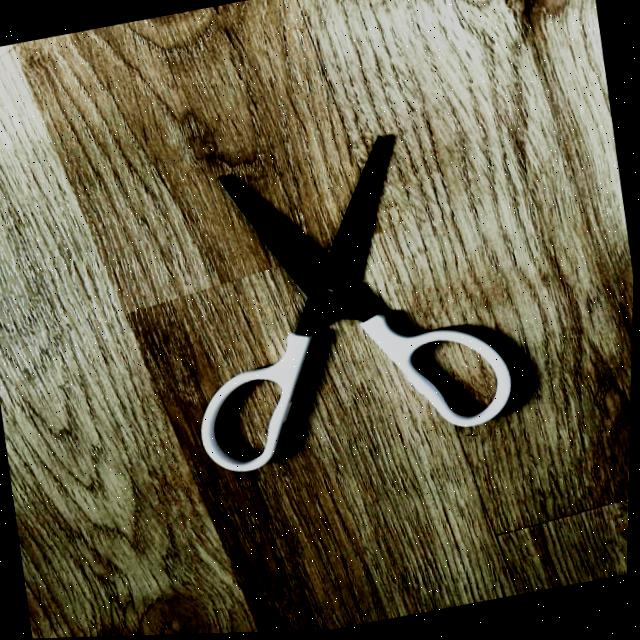Scissors: (219, 134, 515, 429), (200, 308, 327, 476)
